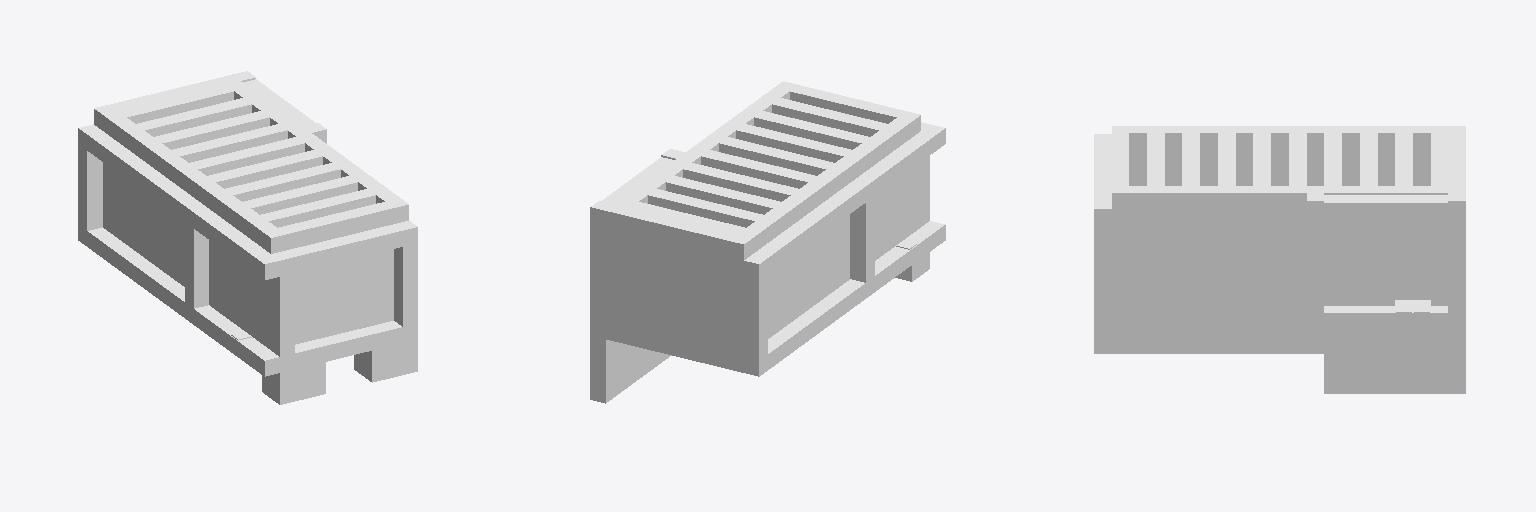
The model's file is ciel_bande_orange_tri.obj.
3 renders of one model, left to right at view 1: azimuth 30°, elevation 25°; view 2: azimuth 150°, elevation 25°; view 3: azimuth 270°, elevation 25°, orthographic.
Parts seen in each view (by area): view 1: __RTX___Test_Map_2_0__223_0_-234_to_233_319_-213; view 2: __RTX___Test_Map_2_0__223_0_-234_to_233_319_-213; view 3: __RTX___Test_Map_2_0__223_0_-234_to_233_319_-213.
Boxes of the visible parts, x1=… form: __RTX___Test_Map_2_0__223_0_-234_to_233_319_-213: x1=78, y1=71, x2=417, y2=404; __RTX___Test_Map_2_0__223_0_-234_to_233_319_-213: x1=590, y1=81, x2=945, y2=403; __RTX___Test_Map_2_0__223_0_-234_to_233_319_-213: x1=1094, y1=126, x2=1465, y2=393.
Size of the model in its own units: 165 by 180 by 315.